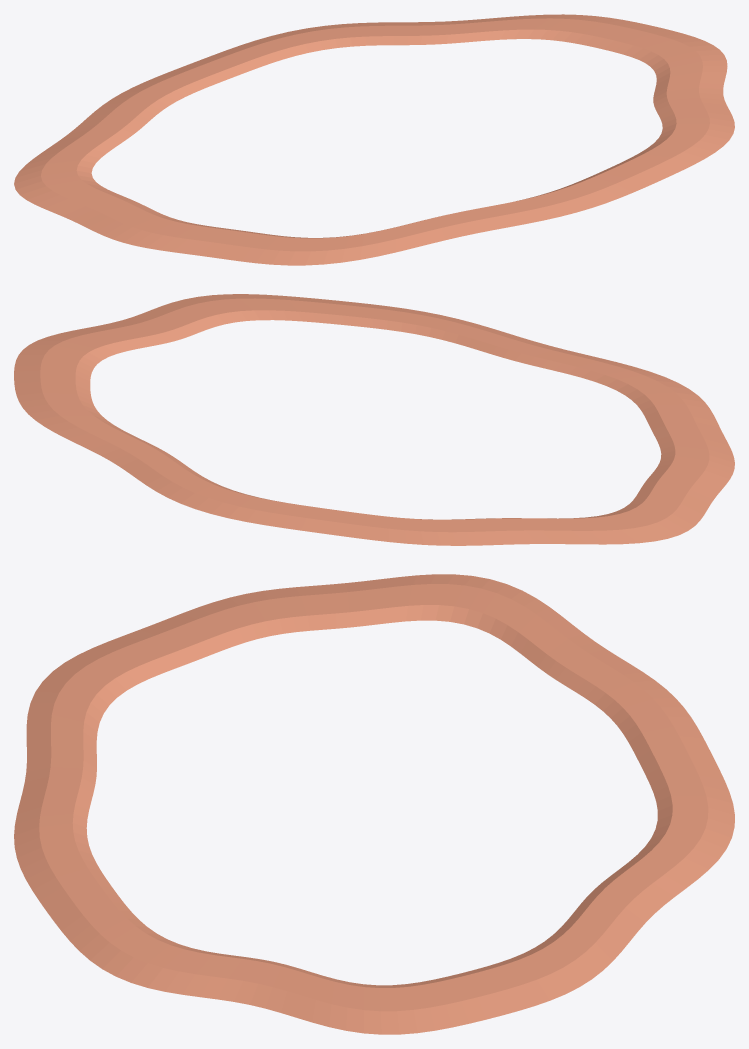
File: basin.glb
The picture shows the model from 3 angles, top to bottom: view 1: azimuth 30°, elevation 25°; view 2: azimuth 150°, elevation 25°; view 3: azimuth 270°, elevation 25°; orthographic projection. The views are drawn at different scales.
Parts seen in each view (by area): view 1: Oasis_Shore; view 2: Oasis_Shore; view 3: Oasis_Shore.
Part boxes in pixels (x1,y1,x2,y2): Oasis_Shore: (14,14,734,265); Oasis_Shore: (14,294,734,545); Oasis_Shore: (14,574,734,1034).
Bounding box in the file's own units: 30.54 × 0.24 × 20.21.
